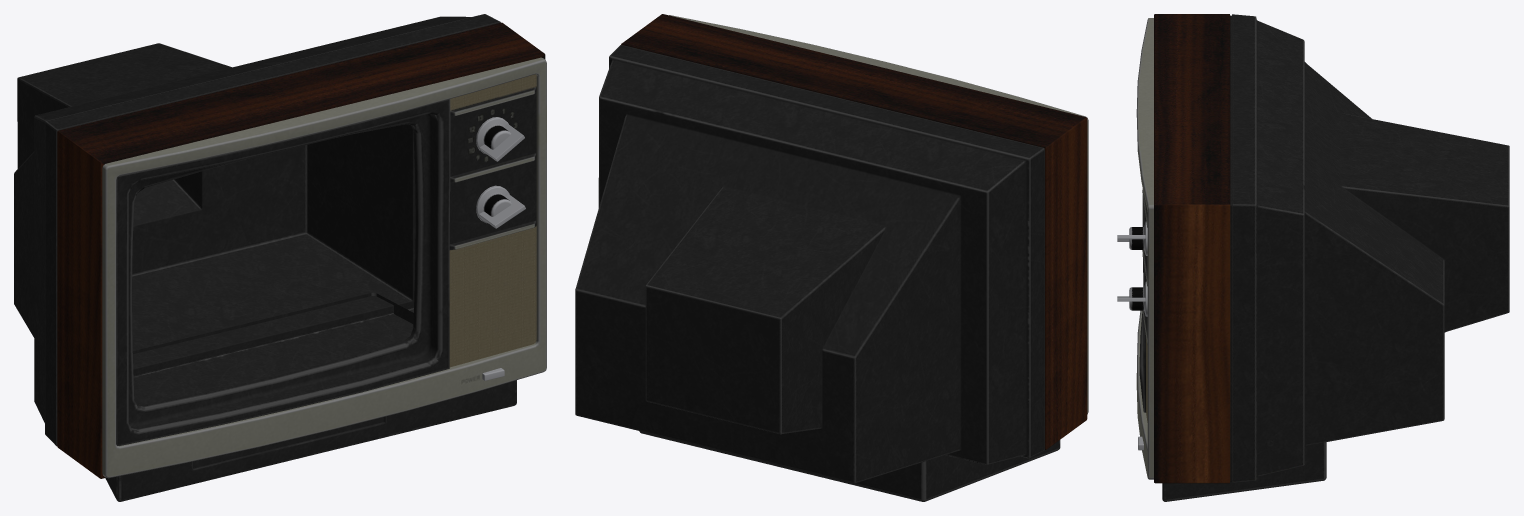
File: tv-poked.glb
The picture shows the model from 3 angles, left to right: view 1: azimuth 30°, elevation 25°; view 2: azimuth 150°, elevation 25°; view 3: azimuth 270°, elevation 25°; orthographic projection. The views are drawn at different scales.
Parts seen in each view (by area): view 1: g.007, g.006, g.003, g.005, g.002, g.004, g; view 2: g.007, g.002, g.006; view 3: g.007, g.006, g.002, g.003, g, g.004, g.005.
Boxes of the visible parts, bbox=[...] form: g.007: bbox=[14, 14, 545, 478]; g.006: bbox=[102, 57, 546, 478]; g.003: bbox=[116, 99, 450, 445]; g.005: bbox=[449, 74, 536, 367]; g.002: bbox=[105, 292, 516, 501]; g.004: bbox=[476, 117, 524, 161]; g: bbox=[476, 185, 525, 228]; g.007: bbox=[575, 14, 1087, 483]; g.002: bbox=[639, 431, 1060, 501]; g.006: bbox=[669, 15, 1088, 414]; g.007: bbox=[1154, 14, 1509, 483]; g.006: bbox=[1136, 18, 1153, 479]; g.002: bbox=[1162, 442, 1326, 501]; g.003: bbox=[1139, 189, 1145, 412]; g: bbox=[1117, 281, 1147, 316]; g.004: bbox=[1117, 221, 1147, 255]; g.005: bbox=[1142, 190, 1147, 422].
Bounding box in the file's own units: 2 × 1.5 × 1.74.
Materials: 1 (1 with a texture image).
